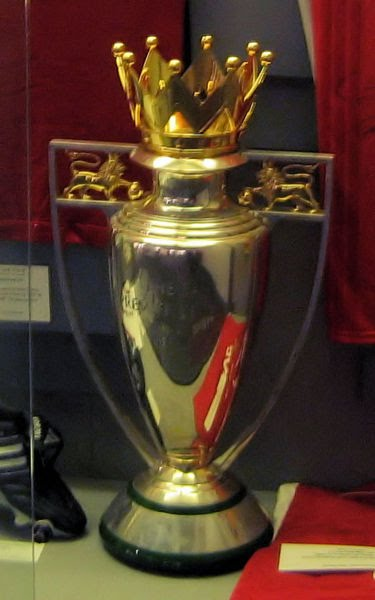trophy: (45, 28, 336, 579)
